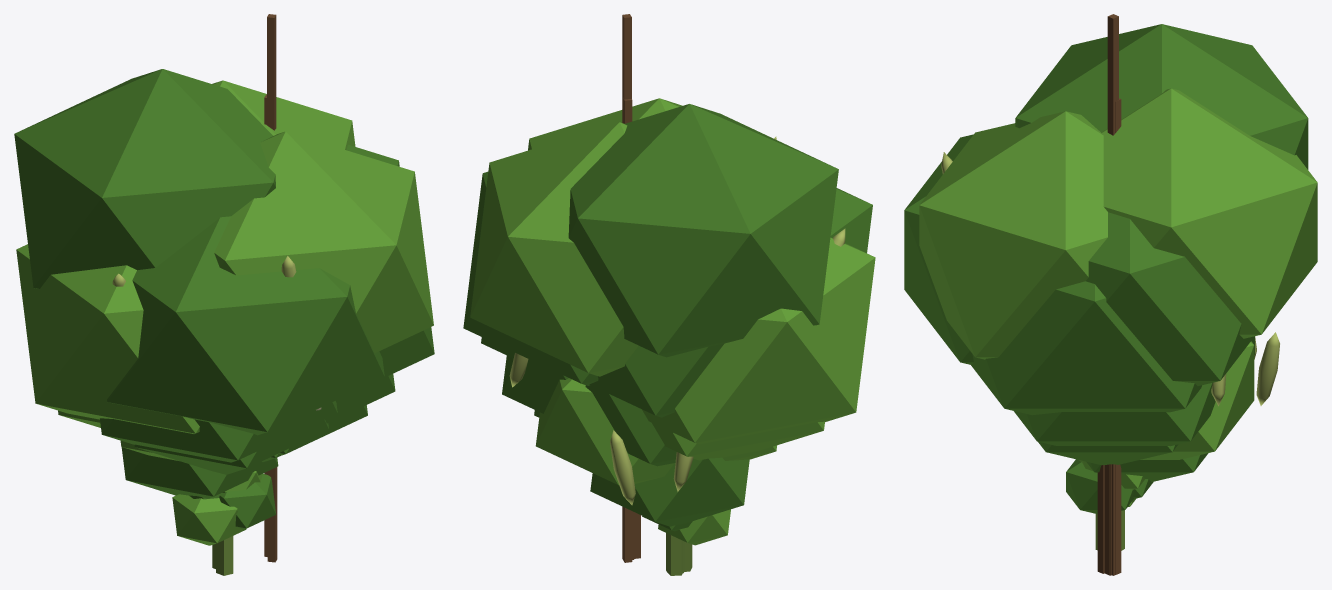
File: Crop_Veg_KidneyBean.fbx
3 renders of one model, left to right at view 1: azimuth 30°, elevation 25°; view 2: azimuth 150°, elevation 25°; view 3: azimuth 270°, elevation 25°, orthographic. The views are drawn at different scales.
Visible parts, largest first — view 1: Crop_Veg_KidneyBean__S4, Crop_Veg_KidneyBean__S3, Crop_Veg_KidneyBean__S1, Crop_Veg_KidneyBean__S2, Crop_Veg_KidneyBean__S5; view 2: Crop_Veg_KidneyBean__S4, Crop_Veg_KidneyBean__S3, Crop_Veg_KidneyBean__S5, Crop_Veg_KidneyBean__S2, Crop_Veg_KidneyBean__S1; view 3: Crop_Veg_KidneyBean__S4, Crop_Veg_KidneyBean__S3, Crop_Veg_KidneyBean__S5, Crop_Veg_KidneyBean__S1, Crop_Veg_KidneyBean__S2.
Boxes of the visible parts, x1,y1,x2,y2 form: Crop_Veg_KidneyBean__S4: (14, 14, 434, 556); Crop_Veg_KidneyBean__S3: (58, 94, 395, 568); Crop_Veg_KidneyBean__S1: (172, 467, 277, 575); Crop_Veg_KidneyBean__S2: (120, 441, 281, 498); Crop_Veg_KidneyBean__S5: (134, 405, 367, 474); Crop_Veg_KidneyBean__S4: (463, 14, 875, 570); Crop_Veg_KidneyBean__S3: (502, 98, 824, 575); Crop_Veg_KidneyBean__S5: (534, 378, 684, 573); Crop_Veg_KidneyBean__S2: (590, 445, 776, 572); Crop_Veg_KidneyBean__S1: (634, 509, 730, 571); Crop_Veg_KidneyBean__S4: (904, 14, 1317, 575); Crop_Veg_KidneyBean__S3: (1014, 98, 1215, 574); Crop_Veg_KidneyBean__S5: (1038, 336, 1254, 575); Crop_Veg_KidneyBean__S1: (1066, 459, 1153, 573); Crop_Veg_KidneyBean__S2: (1086, 453, 1208, 575).
Bounding box in the file's own units: 0.2314 × 0.325 × 0.2185.
